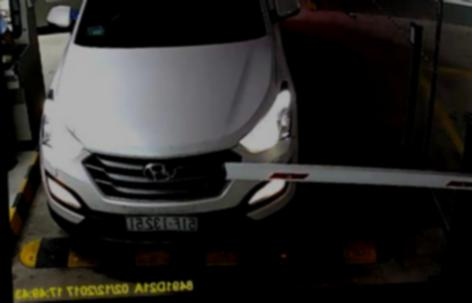License_Plate: (120, 208, 200, 238)
